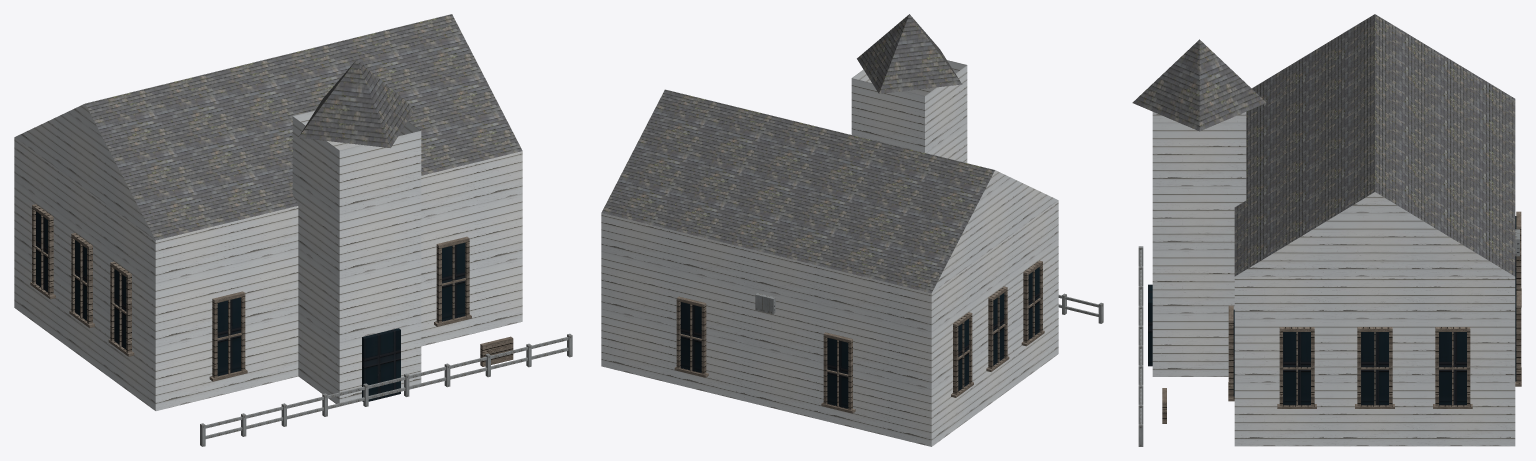
File: country-church_lod0.gltf
3 views of the same model, side by side, from view 1: azimuth 30°, elevation 25°; view 2: azimuth 150°, elevation 25°; view 3: azimuth 270°, elevation 25° (orthographic). The views are drawn at different scales.
Visible parts, largest first — view 1: country-church_nave, country-church_roof, country-church_tower, country-church_fen_18-timber-siding_0, country-church_gable_ends, country-church_spire, country-church_fen_07-glass-curtain-blue_1_t, country-church__fence, country-church__tower_door, country-church__sign_board; view 2: country-church_nave, country-church_roof, country-church_tower, country-church_fen_18-timber-siding_0, country-church_gable_ends, country-church_spire, country-church_fen_07-glass-curtain-blue_1_t, country-church__fence; view 3: country-church_roof, country-church_nave, country-church_tower, country-church_gable_ends, country-church_fen_07-glass-curtain-blue_1_t, country-church_spire, country-church_fen_18-timber-siding_0, country-church__fence, country-church__tower_door.
Boxes of the visible parts, x1,y1,x2,y2 form: country-church_nave: (14, 137, 522, 410); country-church_roof: (85, 14, 522, 240); country-church_tower: (292, 110, 421, 403); country-church_fen_18-timber-siding_0: (30, 204, 471, 381); country-church_gable_ends: (15, 104, 155, 240); country-church_spire: (298, 59, 415, 147); country-church_fen_07-glass-curtain-blue_1_t: (36, 211, 465, 376); country-church__fence: (200, 333, 572, 446); country-church__tower_door: (362, 328, 400, 401); country-church__sign_board: (480, 336, 513, 366); country-church_nave: (601, 200, 1058, 446); country-church_roof: (601, 89, 994, 293); country-church_tower: (851, 60, 967, 162); country-church_fen_18-timber-siding_0: (674, 260, 1044, 413); country-church_gable_ends: (932, 170, 1058, 292); country-church_spire: (857, 14, 962, 93); country-church_fen_07-glass-curtain-blue_1_t: (680, 267, 1039, 408); country-church__fence: (1058, 293, 1103, 323); country-church_roof: (1234, 14, 1515, 276); country-church_nave: (1234, 276, 1515, 446); country-church_tower: (1152, 112, 1246, 376); country-church_gable_ends: (1235, 192, 1514, 276); country-church_fen_07-glass-curtain-blue_1_t: (1233, 216, 1516, 405); country-church_spire: (1132, 39, 1266, 131); country-church_fen_18-timber-siding_0: (1228, 211, 1521, 408); country-church__fence: (1138, 246, 1143, 446); country-church__tower_door: (1148, 284, 1152, 366).
Bounding box in the file's own units: 18.55 × 15 × 16.66.
